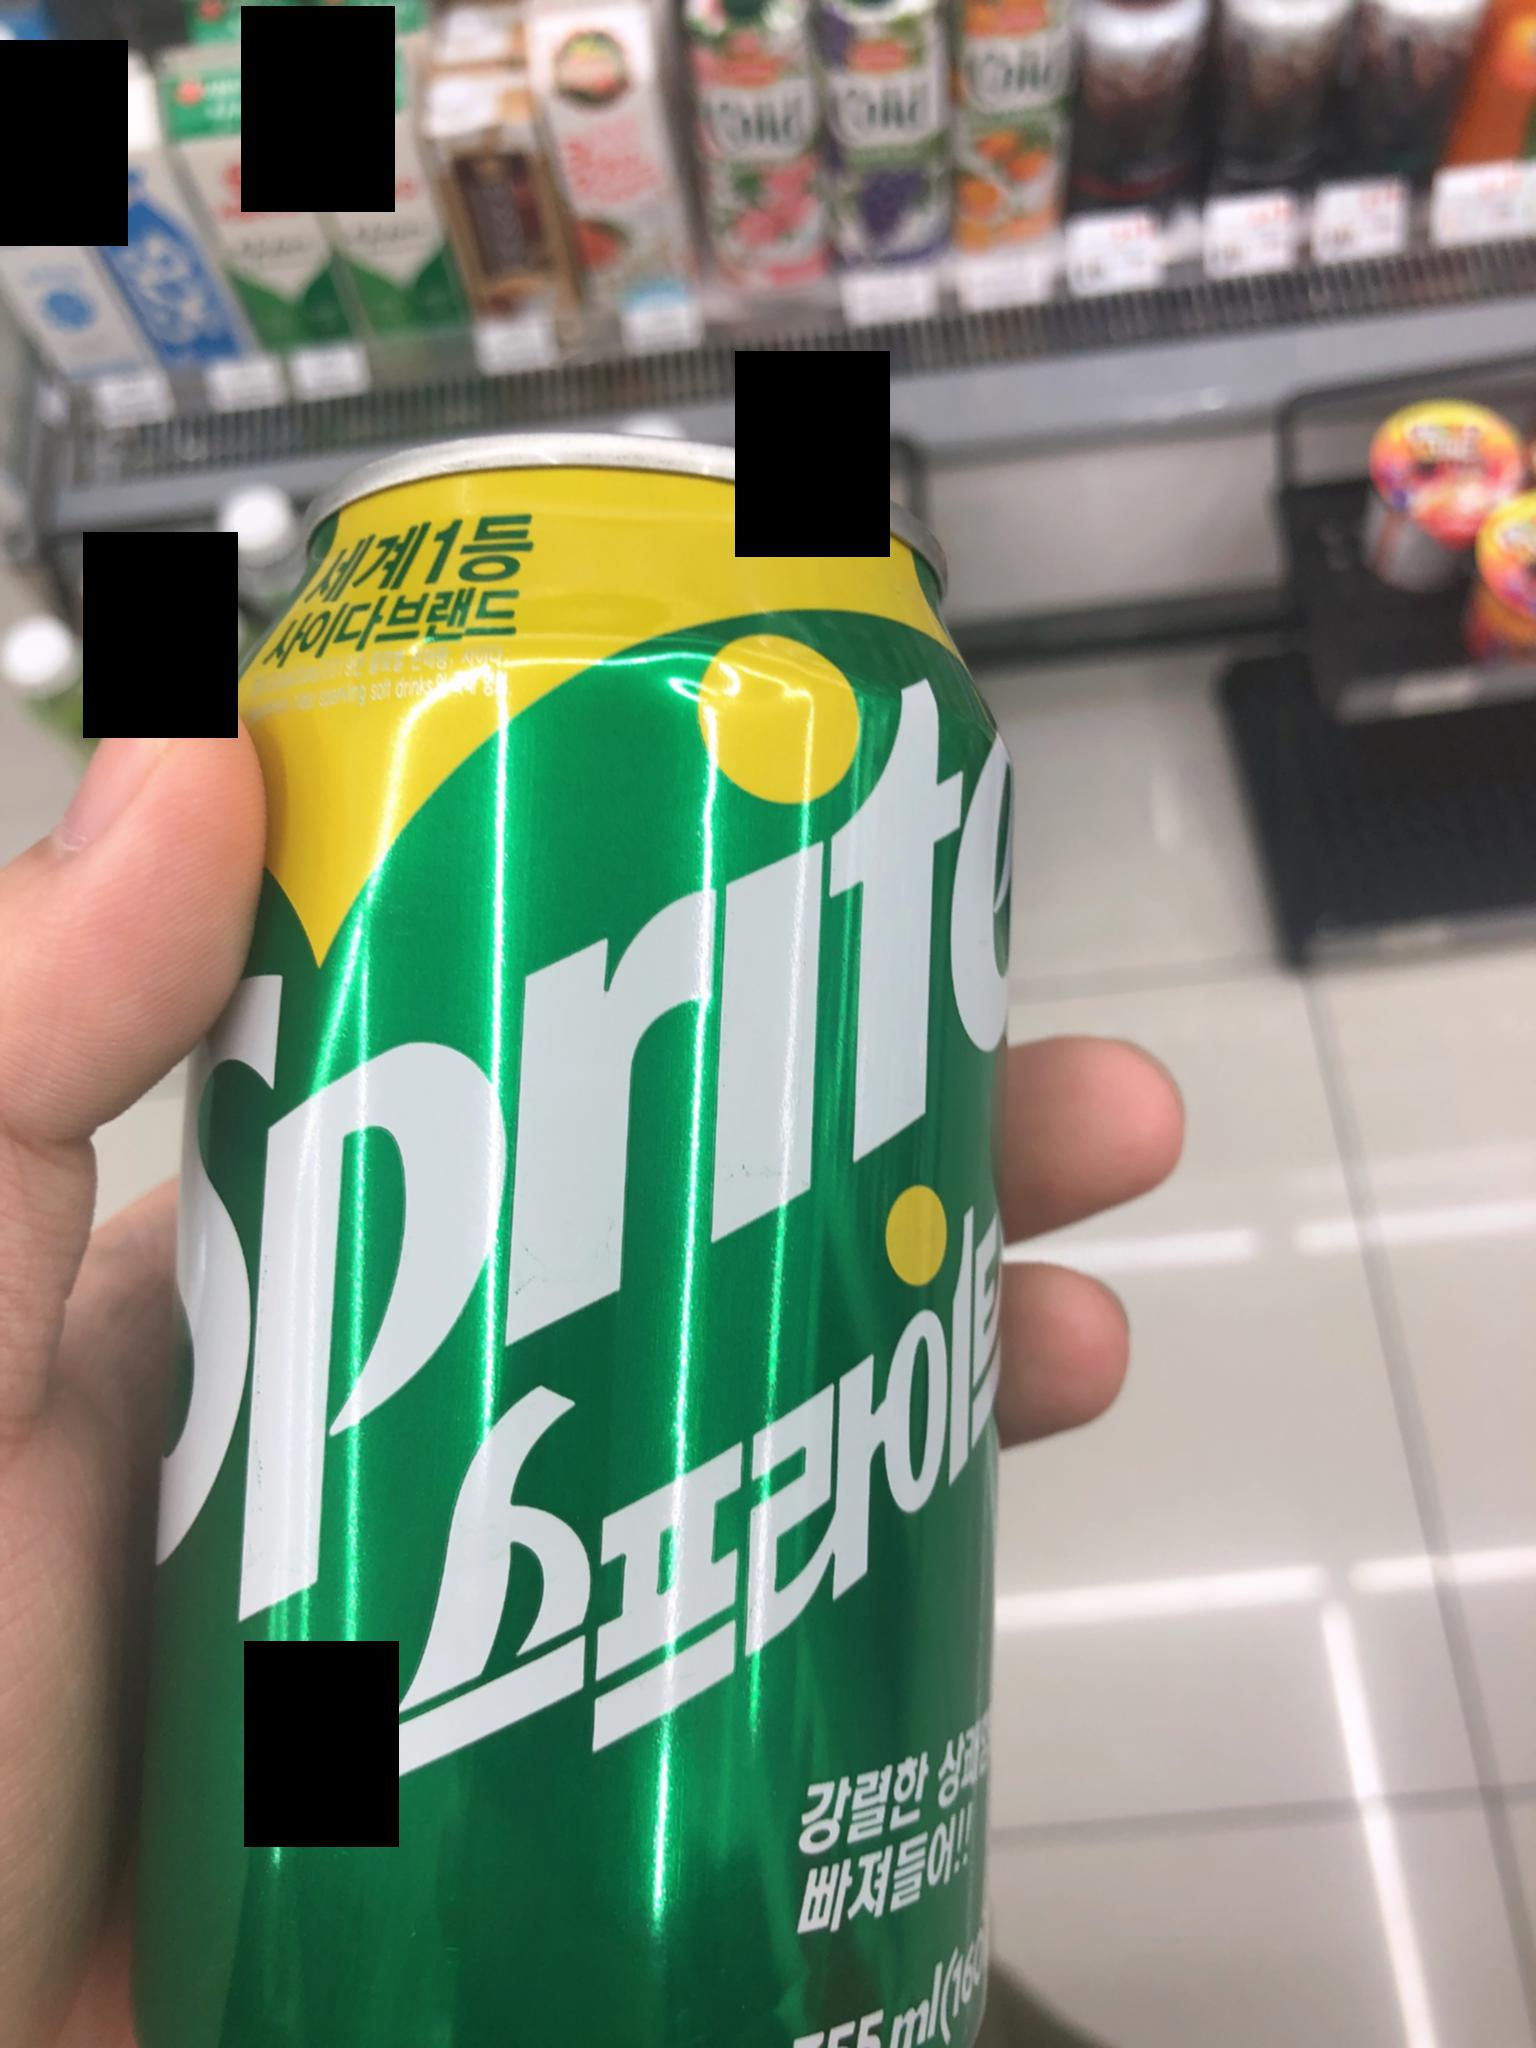sprite: (58, 426, 1018, 2048)
